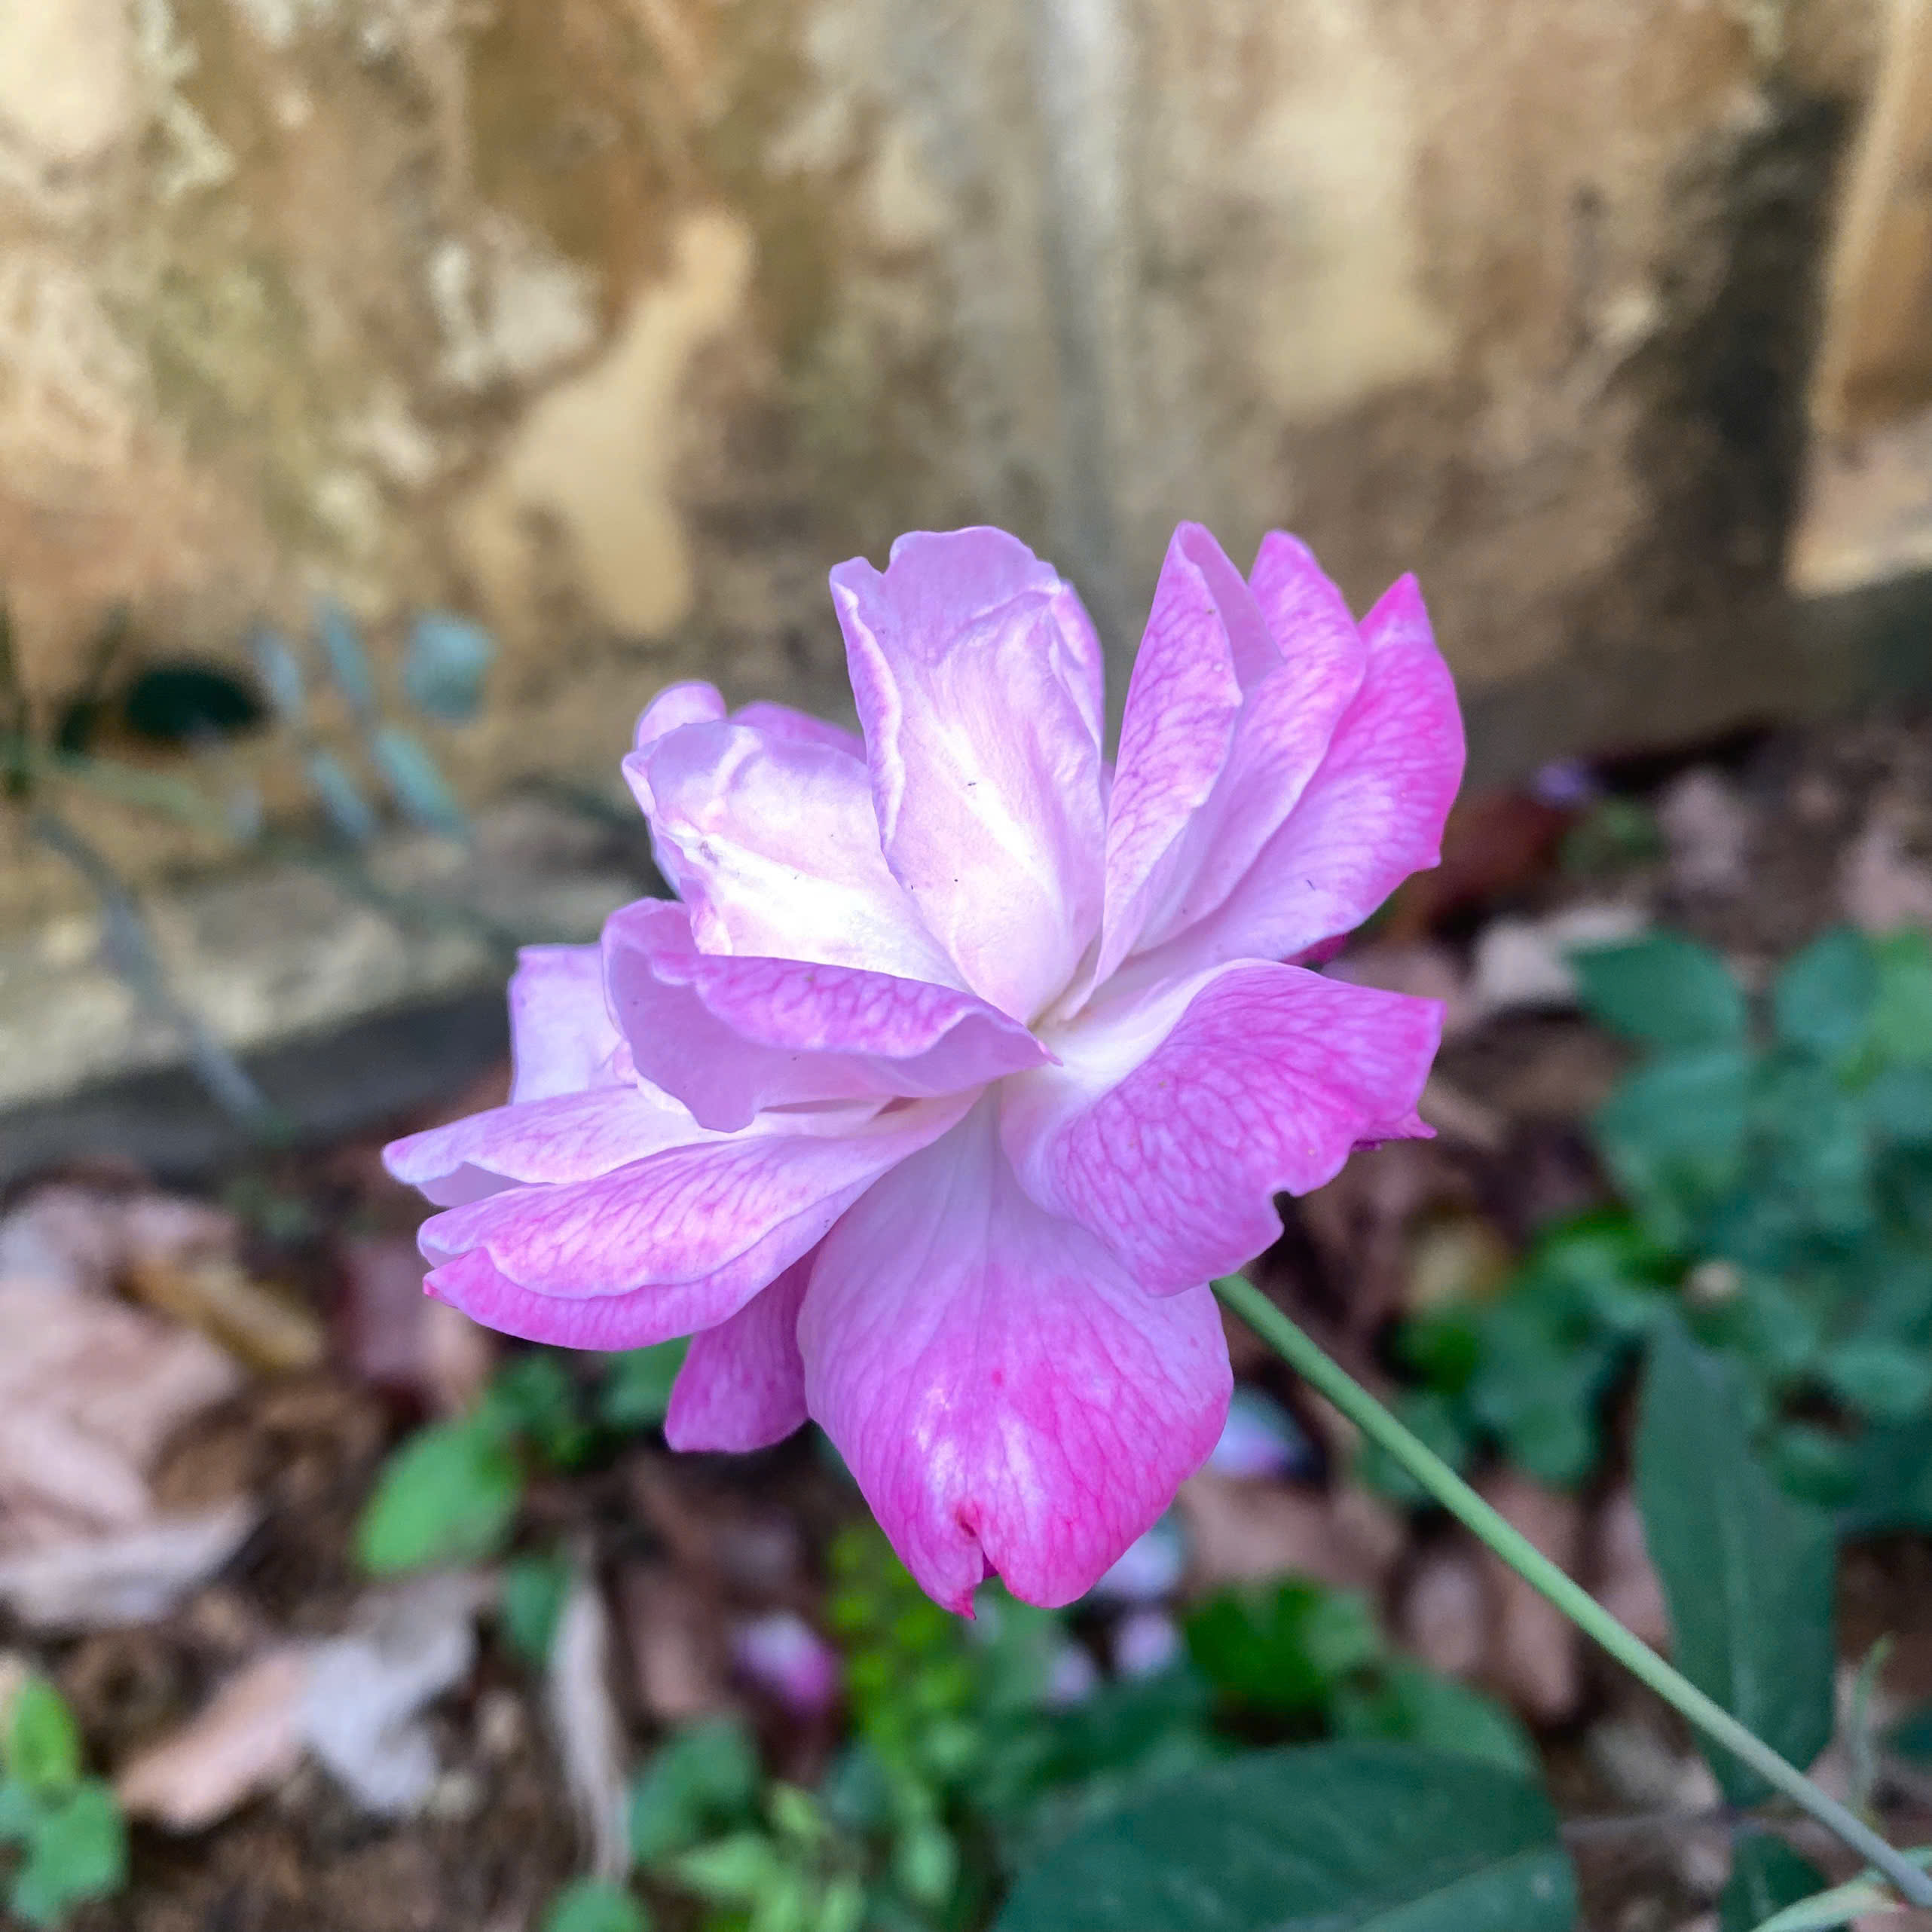hoa_hong_phan: (357, 464, 1932, 1858)
